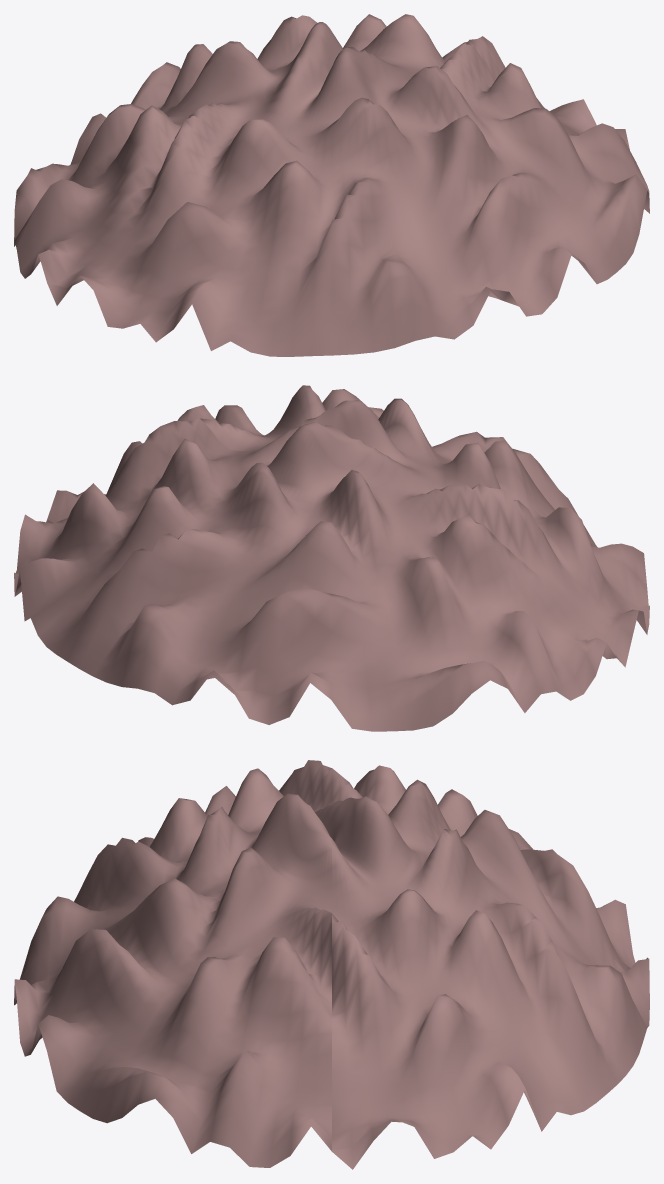
Rendered from brain-desktop.glb.
The picture shows the model from 3 angles, top to bottom: view 1: azimuth 30°, elevation 25°; view 2: azimuth 150°, elevation 25°; view 3: azimuth 270°, elevation 25°; orthographic projection. The views are drawn at different scales.
Parts seen in each view (by area): view 1: meandering-corallites; view 2: meandering-corallites; view 3: meandering-corallites.
Boxes of the visible parts, bbox=[...] form: meandering-corallites: bbox=[14, 14, 649, 356]; meandering-corallites: bbox=[14, 385, 649, 731]; meandering-corallites: bbox=[14, 760, 649, 1169].
Size of the model in its own units: 0.68 by 0.2233 by 0.5848.
